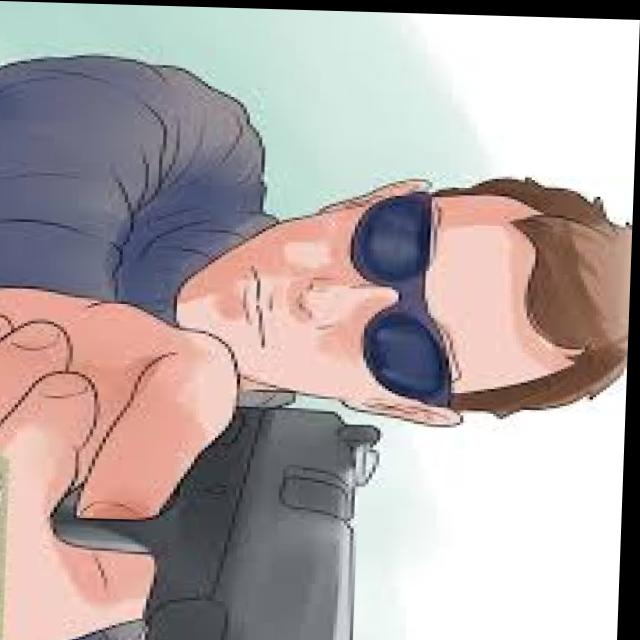handgun: (44, 392, 398, 640)
